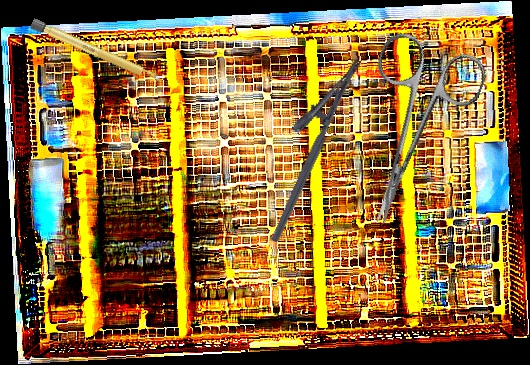Iris Scissors: (325, 26, 492, 241)
Needle Holder: (245, 45, 364, 244)
Scalpel Handle: (29, 18, 163, 85)
